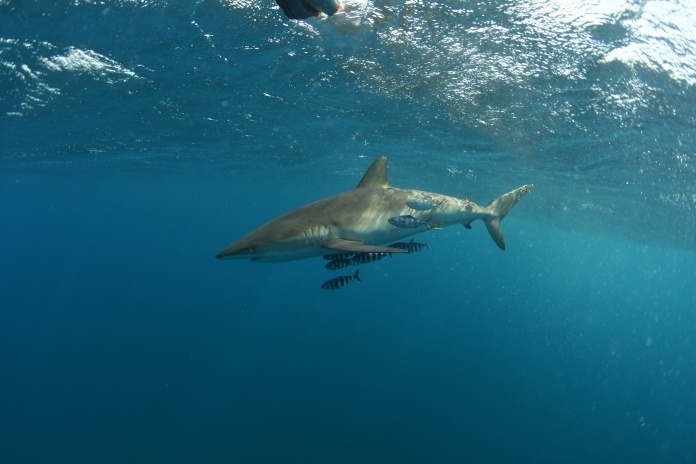Sedoso: (201, 155, 539, 283)
